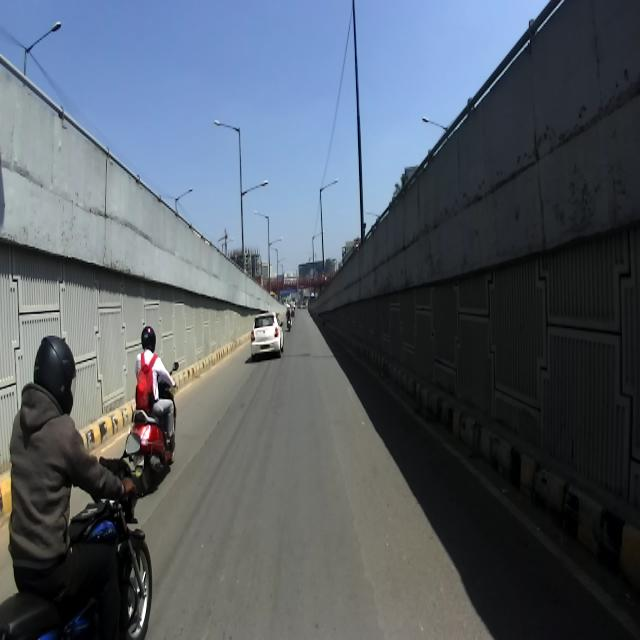car ahead at: (246, 304, 289, 368)
motorcycle ahead at: (128, 406, 176, 478)
